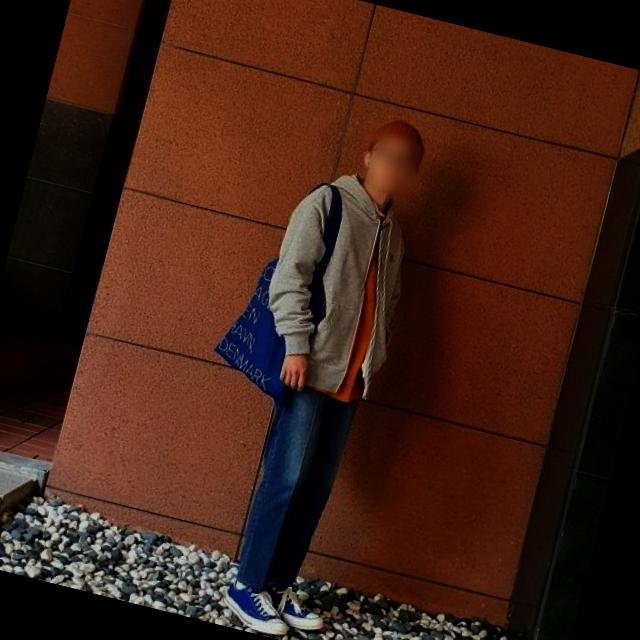denimpants: (228, 380, 360, 603)
zipup: (247, 154, 427, 409)
